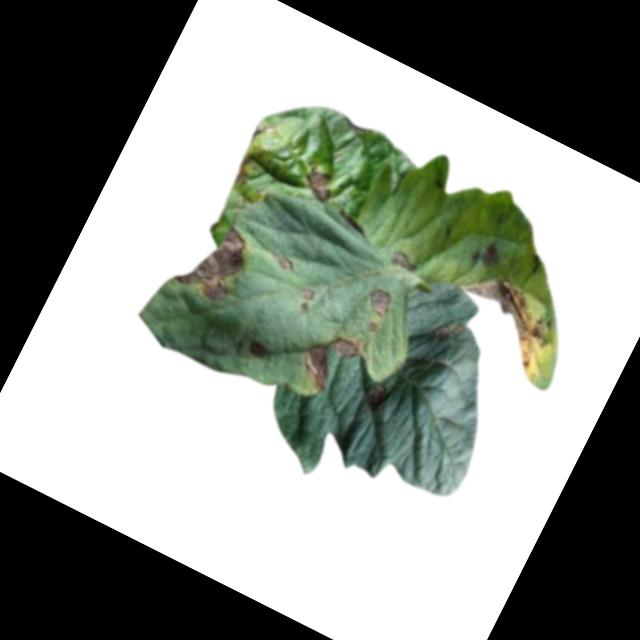Early_blight: (446, 264, 566, 372), (169, 209, 258, 308), (293, 321, 369, 402), (299, 165, 340, 204), (362, 284, 398, 321), (470, 235, 505, 271), (361, 379, 395, 415), (388, 245, 424, 277), (433, 315, 465, 349), (229, 151, 259, 186), (291, 282, 321, 315), (270, 246, 302, 274)
